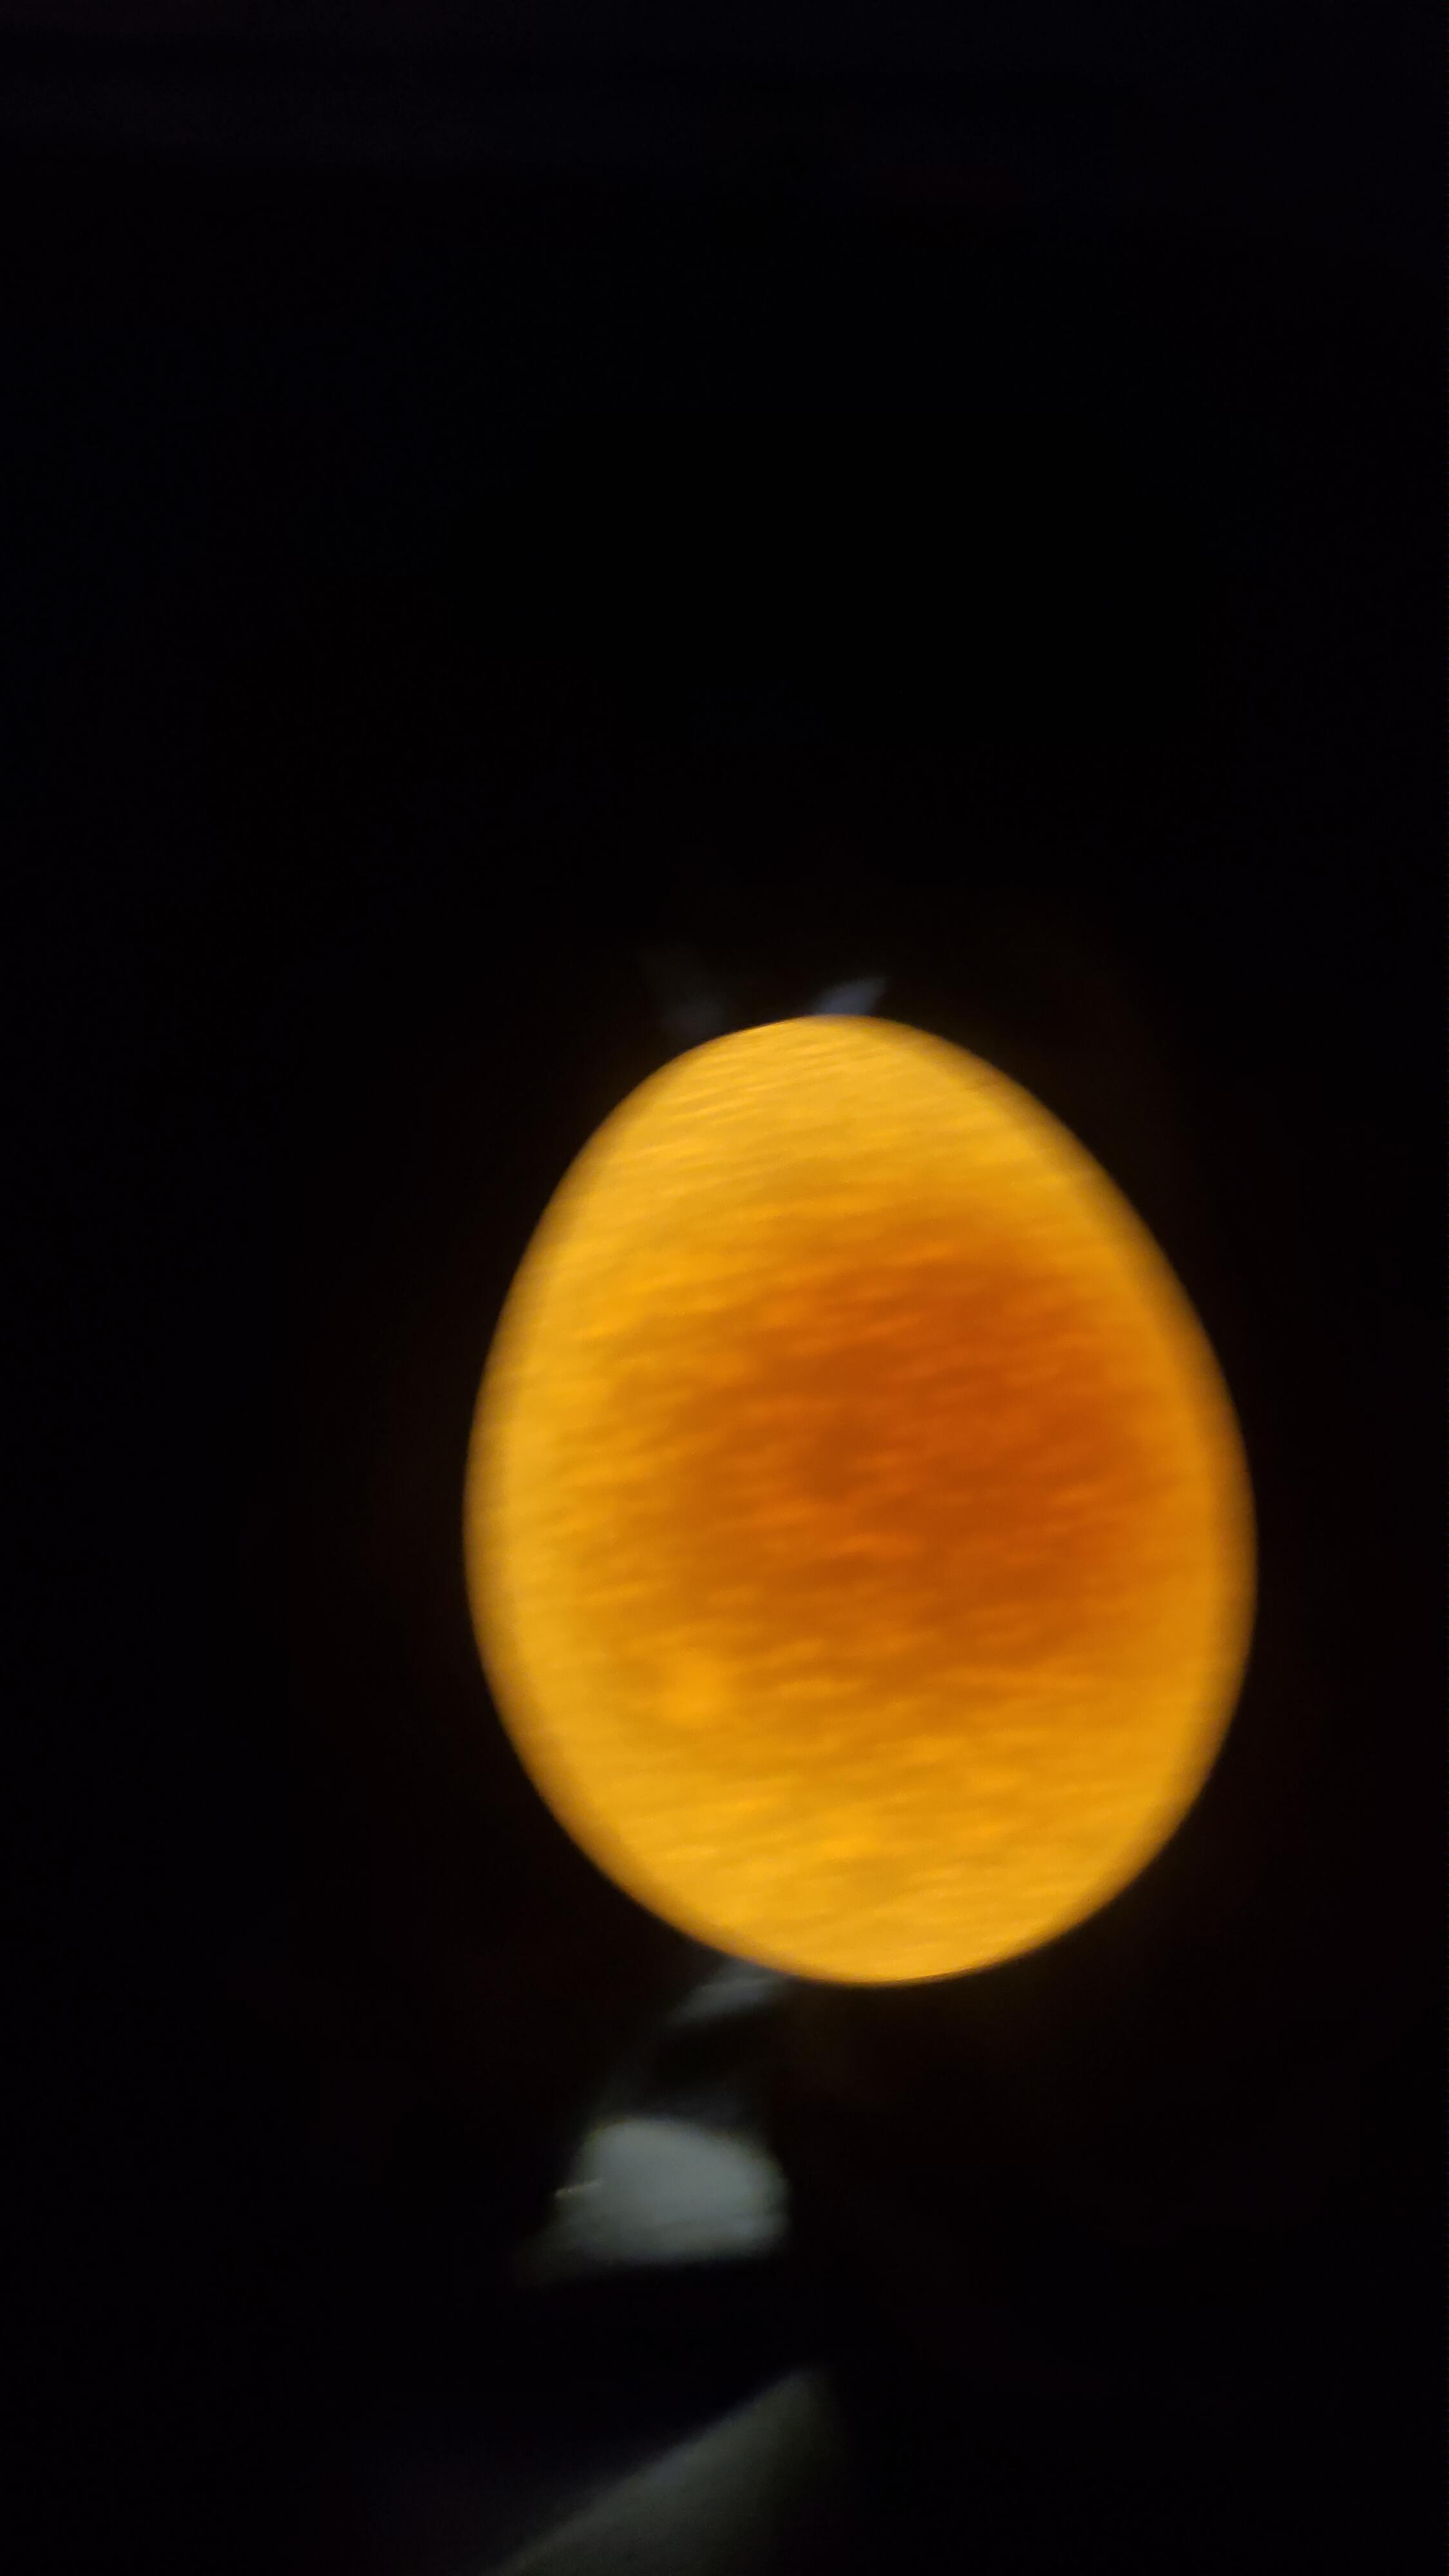A - Good: (419, 978, 1320, 2010)
